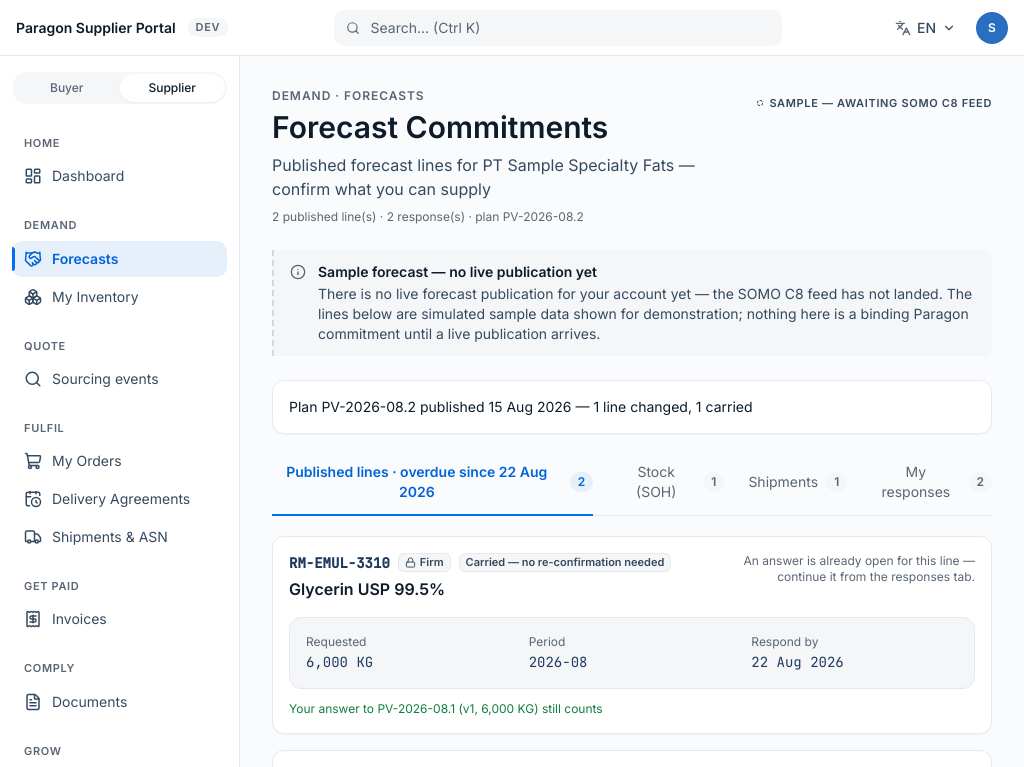
Test: R1a — every RR state the supplier can see names its actor › Draft — the supplier's OWN turn (known-good: the fix must not mislabel this one)
Click the text "My responses": (916,481) [882, 463, 950, 500]
(page scrolled)
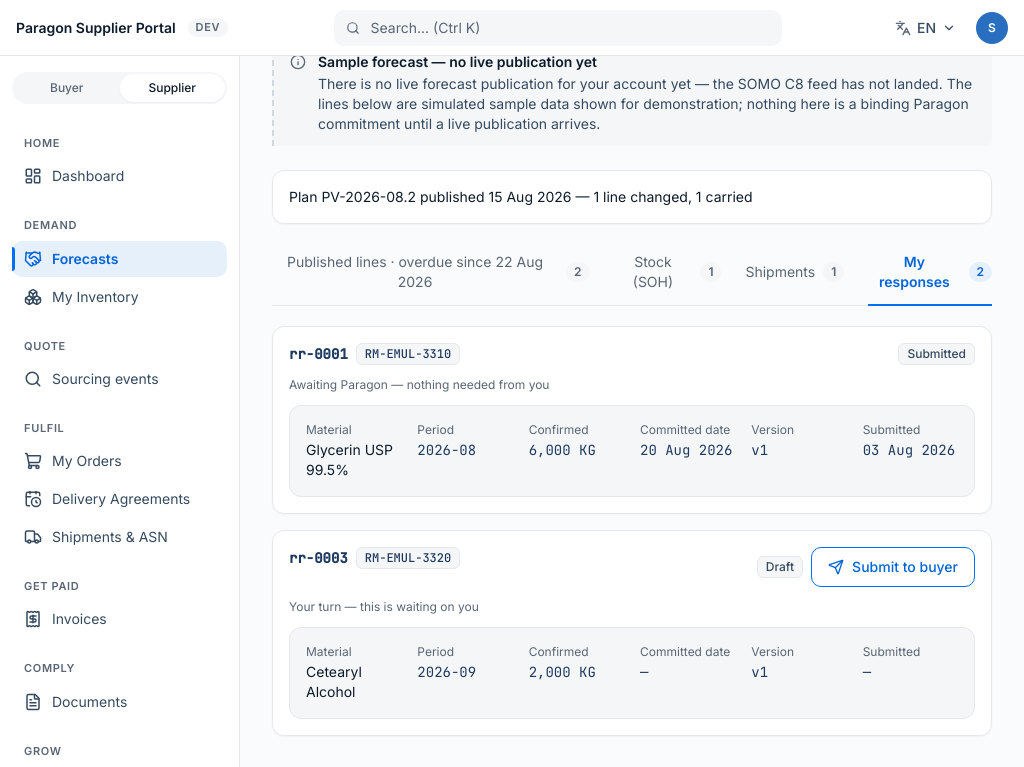
Now the text with test id "sdcsup-response-actor" reads "Your turn — this is waiting on you", box [289, 599, 479, 614]
